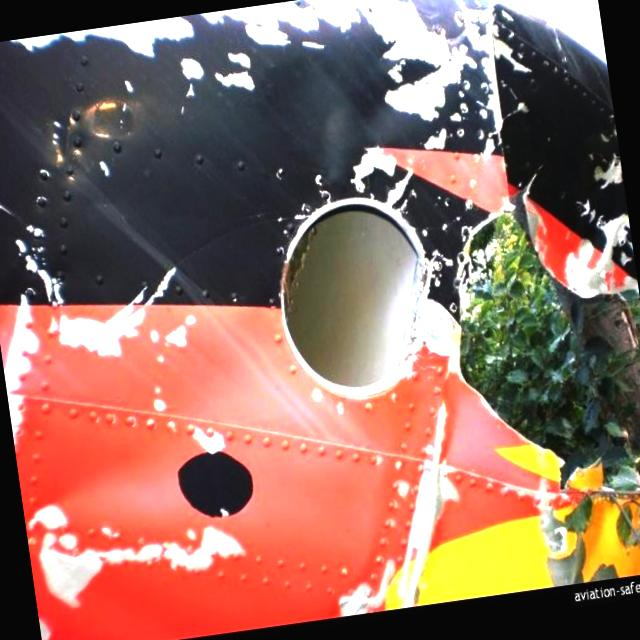dent: (260, 42, 414, 195), (21, 443, 188, 547)
